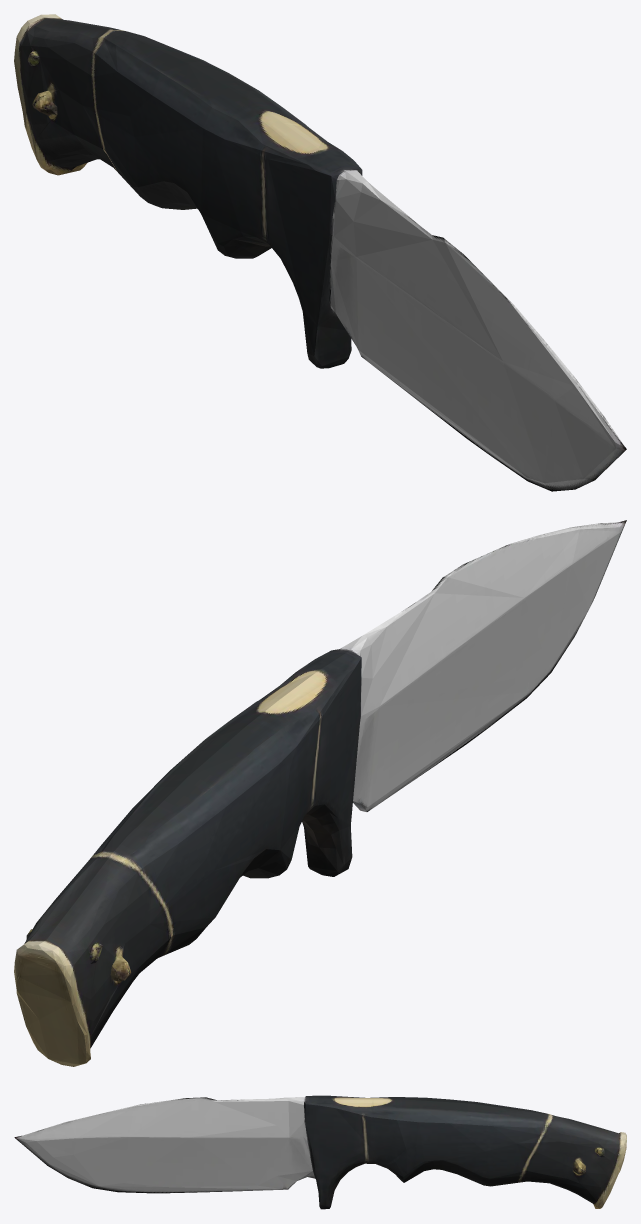
File: black_knife.glb
3 views of the same model, one above another, from view 1: azimuth 30°, elevation 25°; view 2: azimuth 150°, elevation 25°; view 3: azimuth 270°, elevation 25° (orthographic). The views are drawn at different scales.
Parts seen in each view (by area): view 1: geometry_0; view 2: geometry_0; view 3: geometry_0.
Boxes of the visible parts, bbox=[...] form: geometry_0: bbox=[14, 14, 626, 491]; geometry_0: bbox=[14, 520, 626, 1066]; geometry_0: bbox=[14, 1095, 626, 1209].
Size of the model in its own units: 0.0943 by 0.1971 by 0.9931.
Materials: 1 (1 with a texture image).
